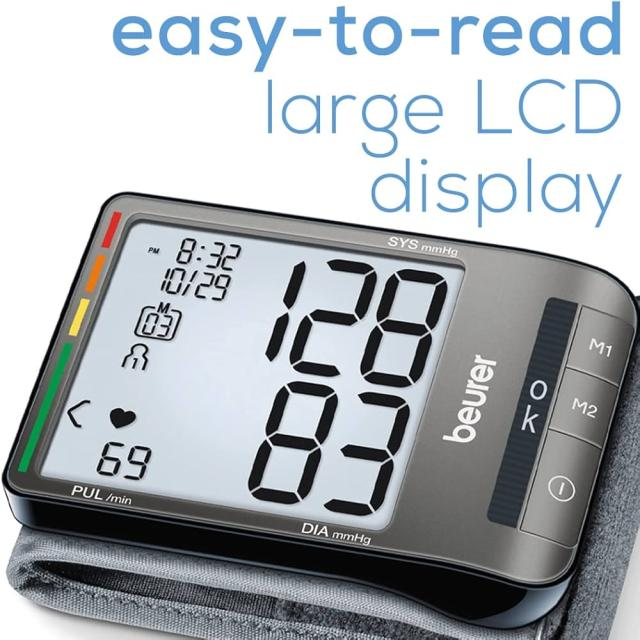dia: (223, 364, 424, 532)
pul: (79, 433, 168, 495)
ssd: (34, 207, 465, 539)
sys: (241, 242, 463, 405)
